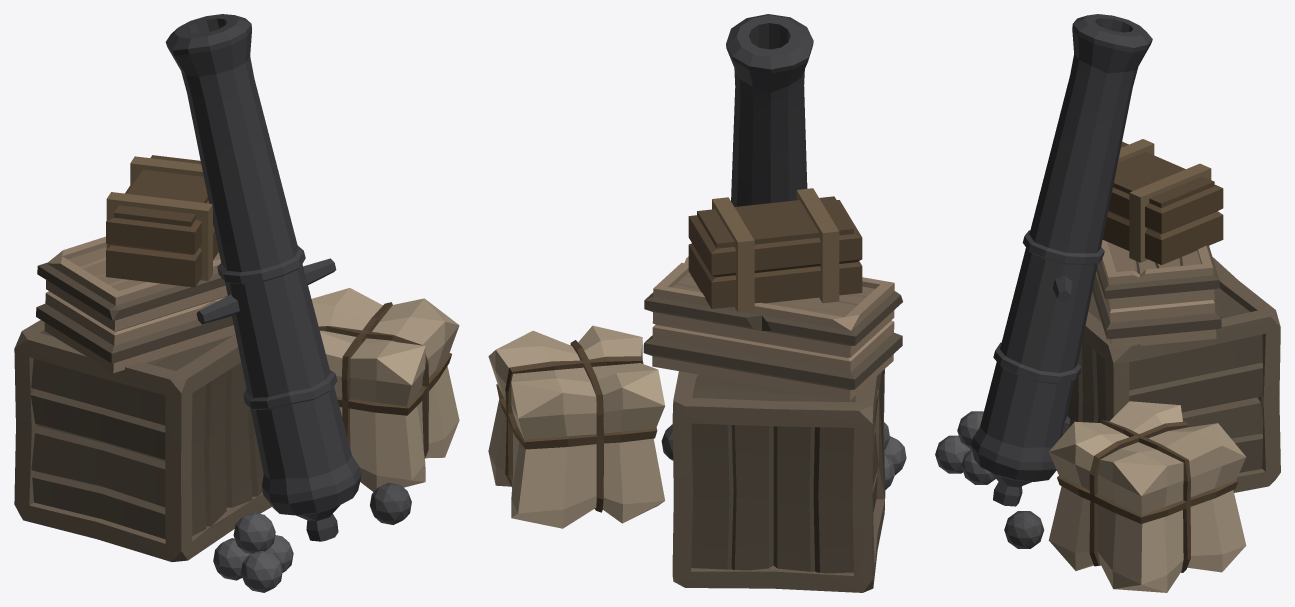
The model's file is Stack2.fbx.
3 renders of one model, left to right at view 1: azimuth 30°, elevation 25°; view 2: azimuth 150°, elevation 25°; view 3: azimuth 270°, elevation 25°, orthographic. The views are drawn at different scales.
Visible parts, largest first — view 1: SM_Prop_Stack_10; view 2: SM_Prop_Stack_10; view 3: SM_Prop_Stack_10.
Part boxes in pixels (<box>): SM_Prop_Stack_10: <box>14,14,459,592</box>; SM_Prop_Stack_10: <box>488,14,906,592</box>; SM_Prop_Stack_10: <box>935,14,1280,592</box>.
Bounding box in the file's own units: 200 × 231 × 155.
1 material, 1 textured.
